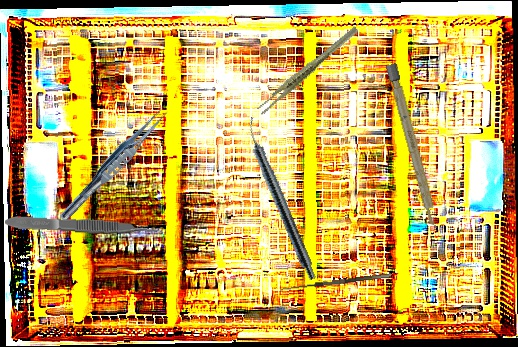Handpiece: (239, 116, 322, 282)
Hook Surgical: (279, 273, 393, 297)
Scalpel Handle: (385, 62, 441, 231)
Tissue Forceps: (55, 100, 174, 228), (245, 25, 371, 116), (4, 213, 161, 240)
